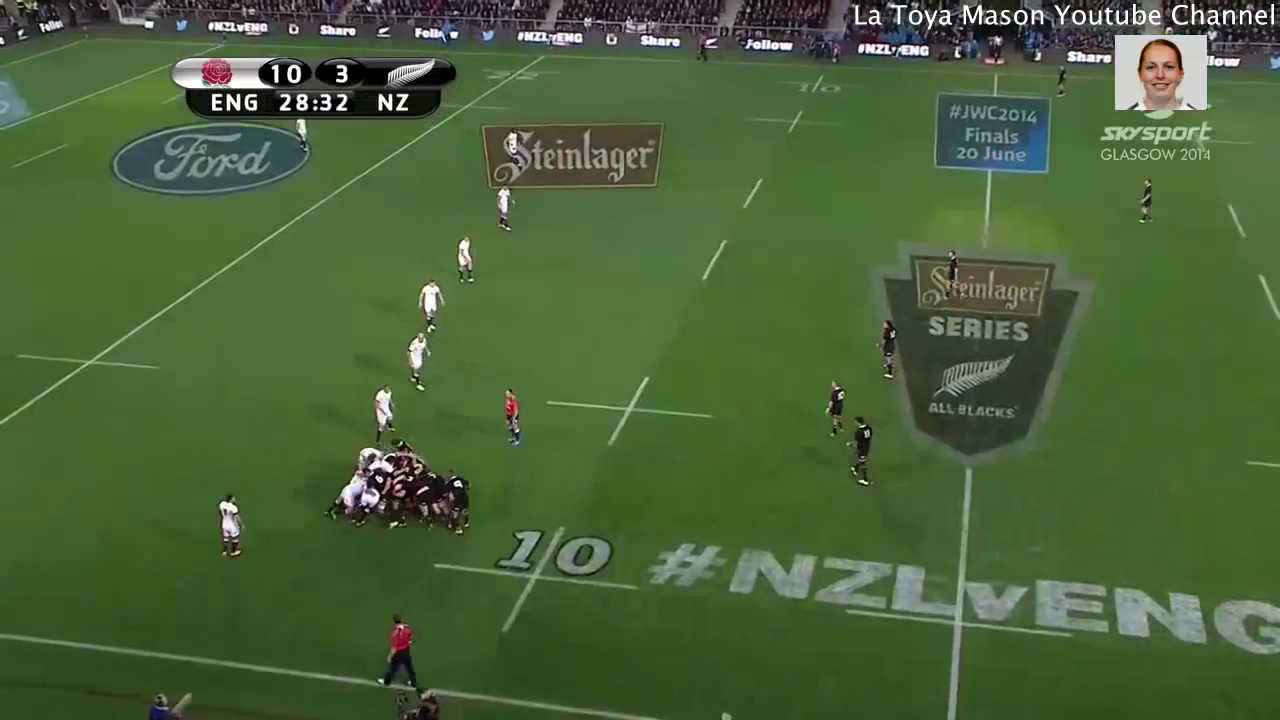10_metre: (431, 520, 643, 652), (537, 368, 716, 461), (741, 110, 844, 147), (765, 69, 867, 104)
player: (207, 488, 251, 570), (847, 410, 877, 492), (415, 276, 445, 339), (403, 334, 435, 390), (453, 234, 482, 294), (369, 384, 401, 436), (875, 319, 901, 383), (501, 384, 525, 449), (495, 120, 525, 171), (491, 182, 519, 236), (942, 248, 966, 304), (825, 377, 844, 440), (1134, 176, 1157, 227), (286, 121, 314, 158), (1051, 64, 1069, 98)
scrum: (329, 441, 474, 544)
